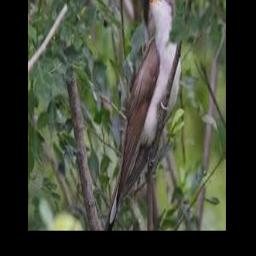Cuckoo: (107, 0, 180, 229)
